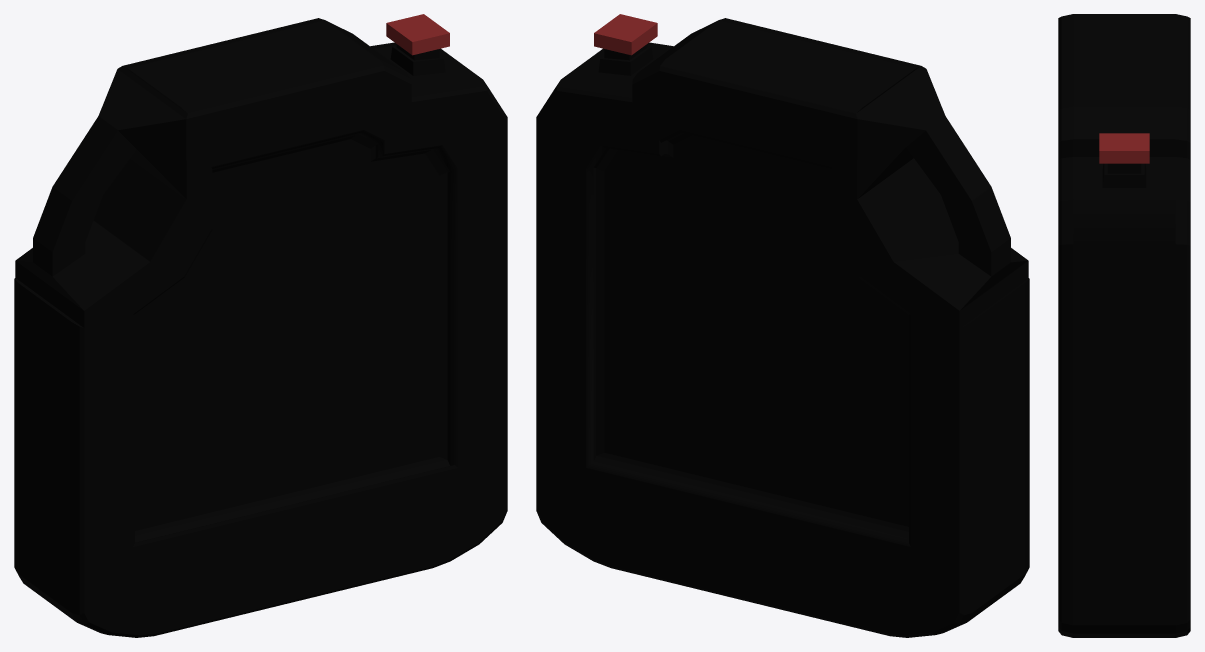
Rendered from Container.fbx.
The picture shows the model from 3 angles, left to right: view 1: azimuth 30°, elevation 25°; view 2: azimuth 150°, elevation 25°; view 3: azimuth 270°, elevation 25°; orthographic projection. The views are drawn at different scales.
Parts seen in each view (by area): view 1: pCube1; view 2: pCube1; view 3: pCube1.
Part boxes in pixels (bbox=[...]): pCube1: bbox=[14, 14, 507, 637]; pCube1: bbox=[536, 14, 1029, 637]; pCube1: bbox=[1058, 14, 1190, 637].
Bounding box in the file's own units: 8.24 × 9.41 × 2.26.
